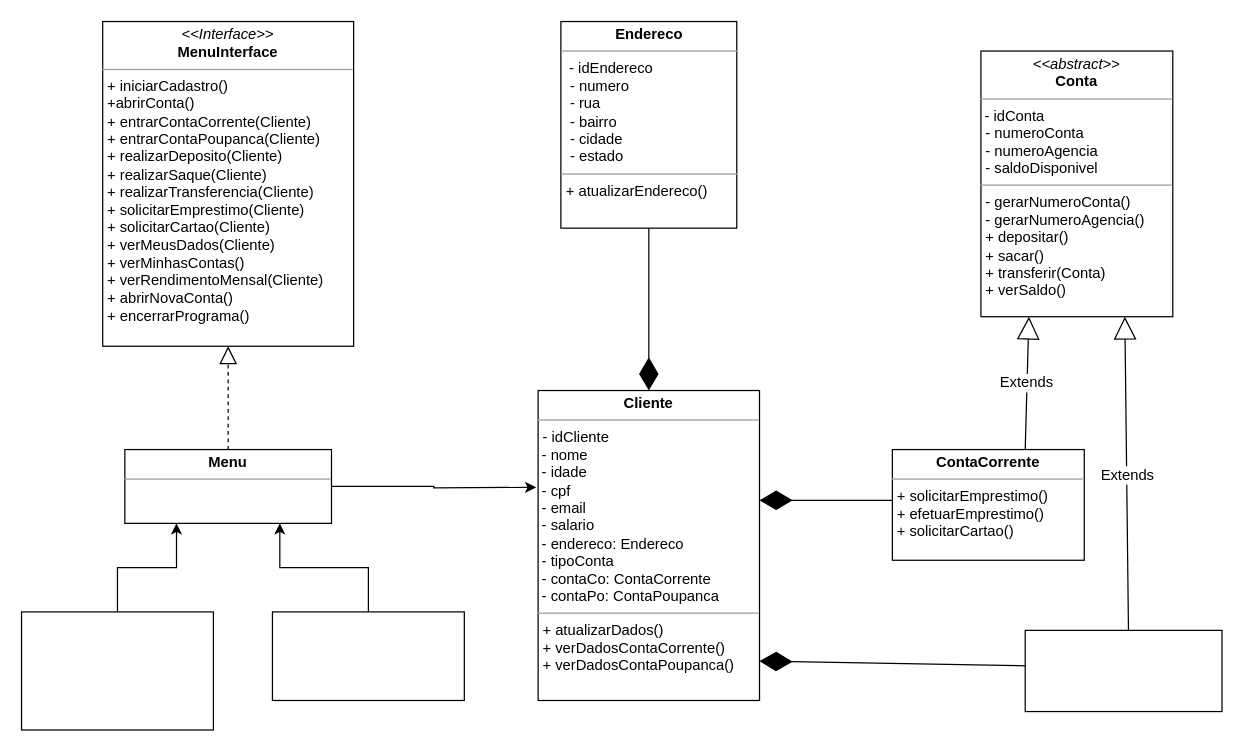
The diagram is 1244 pixels wide and 752 high, and some of its shapes have lost their labels. The shapes that lost their labels are listed below. From the top down, each one's centre as x and y in pixels, then its label:
(116,670): Validacao + lerInt() + lerDouble() + lerString() + selecionarOpcao()
(367,655): Instanciacao + instanciarEndereco() + instanciarCliente()
(1123,670): ContaPoupanca + renderAoMes()
